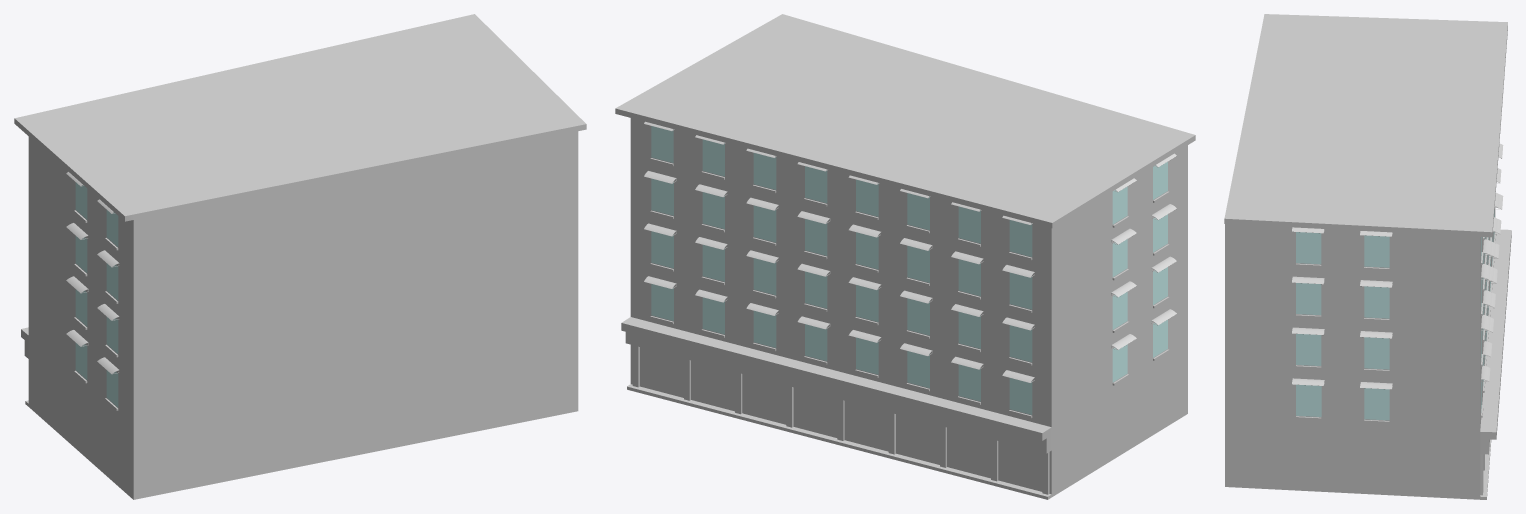
The model's file is 住宅4 英文版.fbx.
The picture shows the model from 3 angles, left to right: view 1: azimuth 30°, elevation 25°; view 2: azimuth 150°, elevation 25°; view 3: azimuth 270°, elevation 25°; orthographic projection. The views are drawn at different scales.
Visible parts, largest first — view 1: 物件_1; view 2: 物件_1, 物件_454, 物件_444, 物件_437, 物件_442, 物件_439, 物件_443, 物件_436, 物件_441, 物件_438, 物件_440, 物件_25 (+31 smaller); view 3: 物件_1, 物件_454, 物件_44, 物件_41, 物件_42, 物件_43, 物件_48, 物件_50, 物件_49, 物件_51.
Part boxes in pixels (<box>): 物件_1: <box>14,14,586,499</box>; 物件_1: <box>615,14,1195,496</box>; 物件_454: <box>621,317,1051,453</box>; 物件_444: <box>627,384,1051,499</box>; 物件_437: <box>751,376,778,422</box>; 物件_442: <box>1007,443,1034,489</box>; 物件_439: <box>854,403,880,449</box>; 物件_443: <box>700,363,726,409</box>; 物件_436: <box>649,349,675,395</box>; 物件_441: <box>956,430,982,476</box>; 物件_438: <box>803,390,829,435</box>; 物件_440: <box>905,416,931,462</box>; 物件_25: <box>1009,272,1032,309</box>; 物件_1: <box>1224,14,1507,499</box>; 物件_454: <box>1480,229,1511,454</box>; 物件_44: <box>1364,235,1389,267</box>; 物件_41: <box>1364,388,1389,420</box>; 物件_42: <box>1364,286,1389,318</box>; 物件_43: <box>1364,337,1389,369</box>; 物件_48: <box>1296,384,1321,416</box>; 物件_50: <box>1296,232,1321,264</box>; 物件_49: <box>1296,283,1321,315</box>; 物件_51: <box>1296,334,1321,365</box>.
Bounding box in the file's own units: 30.99 × 17.23 × 18.
